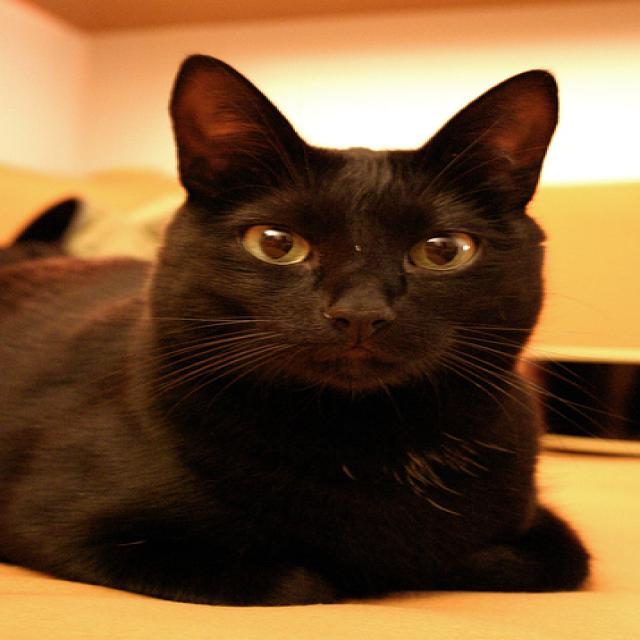left eye: (406, 228, 481, 271)
